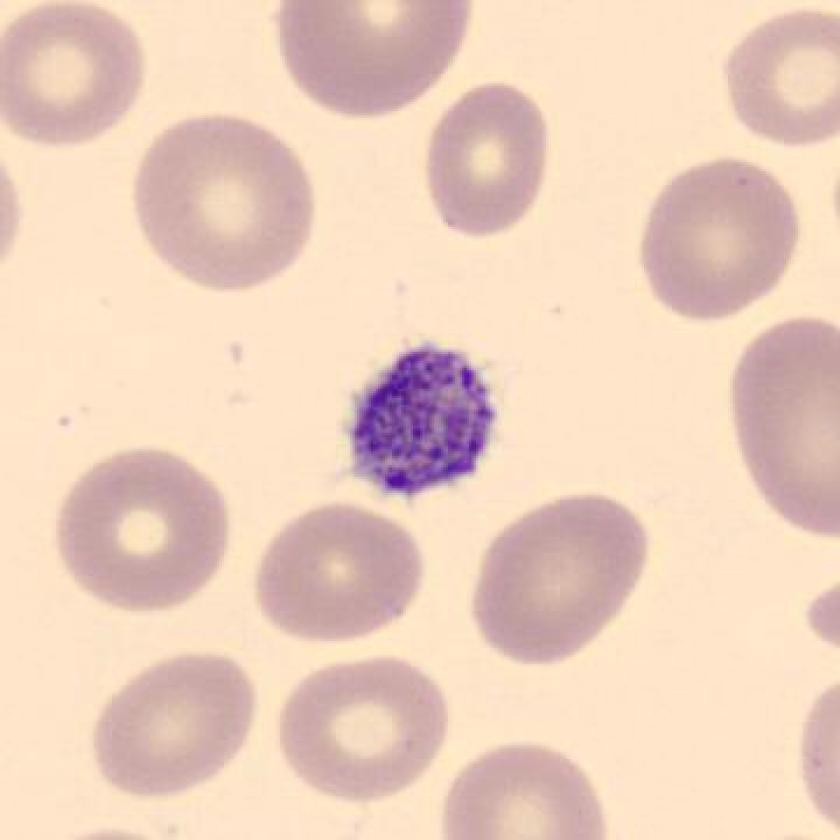platelets: (326, 332, 515, 515)
